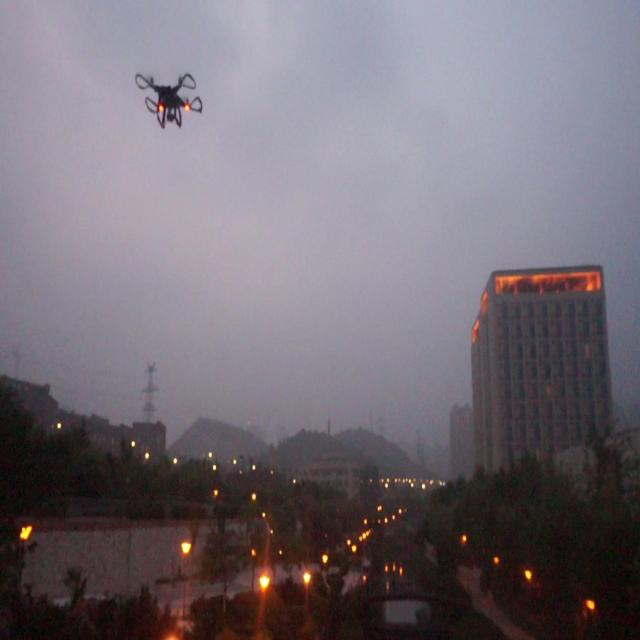drone: (132, 71, 204, 132)
